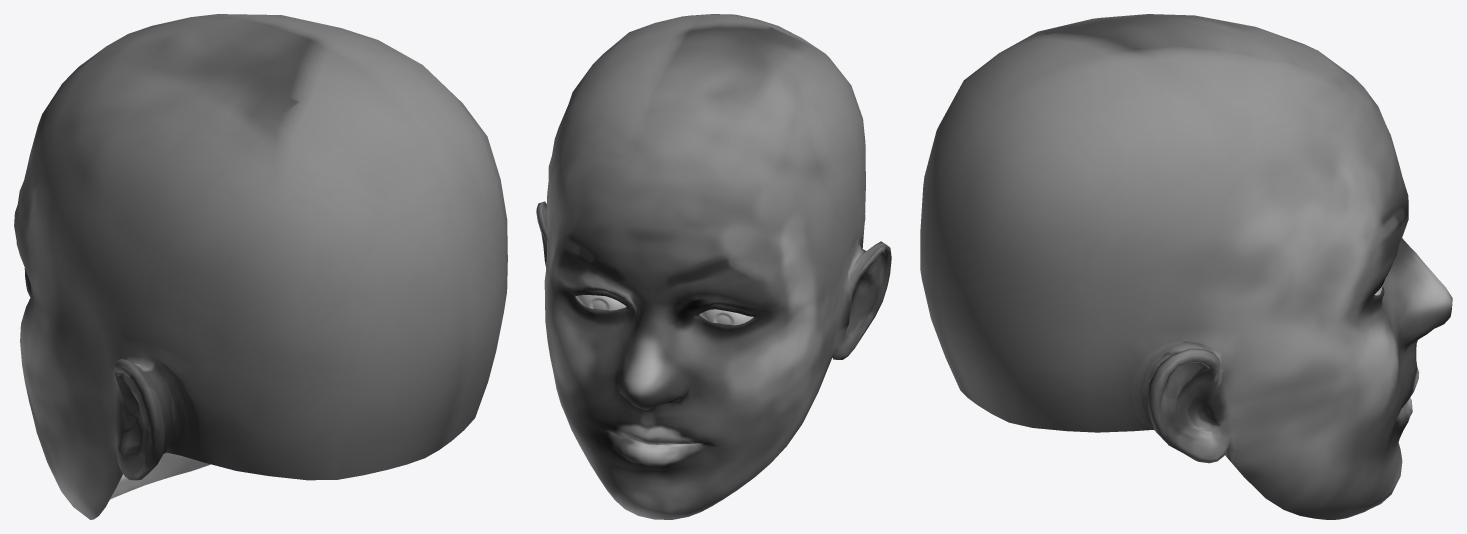
Rendered from testFacePaintSize.fbx.
3 renders of one model, left to right at view 1: azimuth 30°, elevation 25°; view 2: azimuth 150°, elevation 25°; view 3: azimuth 270°, elevation 25°, orthographic. The views are drawn at different scales.
Parts seen in each view (by area): view 1: head; view 2: head, eyeRight, eyeLeft; view 3: head.
Boxes of the visible parts, box(x1,y1,x2,y2) form: head: box(14, 14, 507, 519); head: box(536, 14, 891, 519); eyeRight: box(699, 309, 753, 325); eyeLeft: box(575, 295, 626, 310); head: box(920, 14, 1452, 519).
Bounding box in the file's own units: 185 × 234 × 229.
2 materials, 1 textured.
